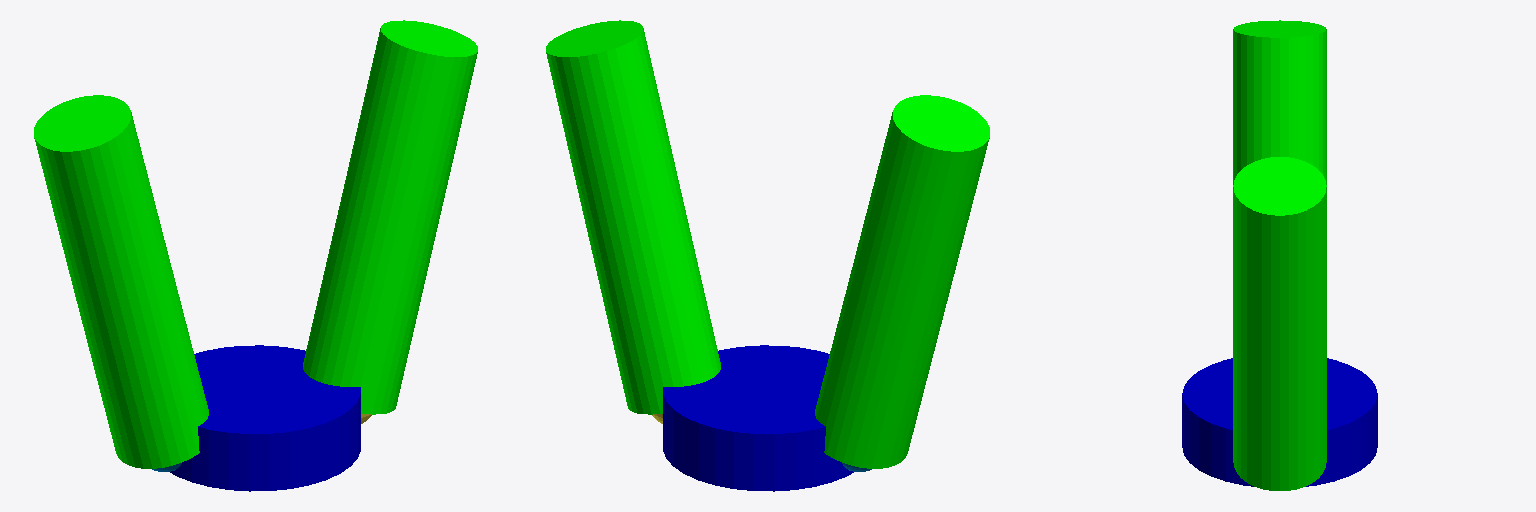
URDF robot description (gripper_2f_1j):
<?xml version='1.0' encoding='UTF-8'?>
<robot name="gripper_2f_1j">
  <link name="palm">
    <inertial>
      <origin xyz="0.0 0.0 0.0" rpy="0.0 -0.0 0.0"/>
      <mass value="1.0"/>
      <inertia ixx="1.0" ixy="0.0" ixz="0.0" iyy="1.0" iyz="0.0" izz="1.0"/>
    </inertial>
    <visual>
      <geometry>
        <cylinder radius="0.05" length="0.03"/>
      </geometry>
      <material name="blue"/>
      <origin xyz="0.0 0.0 0.0" rpy="0.0 -0.0 0.0"/>
    </visual>
    <collision>
      <geometry>
        <cylinder radius="0.05" length="0.03"/>
      </geometry>
      <origin xyz="0.0 0.0 0.0" rpy="0.0 0.0 0.0"/>
    </collision>
  </link>
  <link name="f11">
    <inertial>
      <origin xyz="0.0 0.0 0.0" rpy="0.0 -0.0 0.0"/>
      <mass value="1.0"/>
      <inertia ixx="1.0" ixy="0.0" ixz="0.0" iyy="1.0" iyz="0.0" izz="1.0"/>
    </inertial>
    <visual>
      <geometry>
        <cylinder radius="0.02384690471153116" length="0.18230065709333138"/>
      </geometry>
      <material name="green"/>
      <origin xyz="0.0 0.0 0.09115032854666569" rpy="0.0 -0.0 0.0"/>
    </visual>
    <collision>
      <geometry>
        <cylinder radius="0.02384690471153116" length="0.18230065709333138"/>
      </geometry>
      <origin xyz="0.0 0.0 0.05" rpy="0.0 0.0 0.0"/>
    </collision>
  </link>
  <link name="f21">
    <inertial>
      <origin xyz="0.0 0.0 0.0" rpy="0.0 -0.0 0.0"/>
      <mass value="1.0"/>
      <inertia ixx="1.0" ixy="0.0" ixz="0.0" iyy="1.0" iyz="0.0" izz="1.0"/>
    </inertial>
    <visual>
      <geometry>
        <cylinder radius="0.02384690471153116" length="0.18230065709333138"/>
      </geometry>
      <material name="green"/>
      <origin xyz="0.0 0.0 0.09115032854666569" rpy="0.0 -0.0 0.0"/>
    </visual>
    <collision>
      <geometry>
        <cylinder radius="0.02384690471153116" length="0.18230065709333138"/>
      </geometry>
      <origin xyz="0.0 0.0 0.05" rpy="0.0 0.0 0.0"/>
    </collision>
  </link>
  <link name="f11_base">
    <inertial>
      <origin xyz="0.0 0.0 0.0" rpy="0.0 -0.0 0.0"/>
      <mass value="1.0"/>
      <inertia ixx="1.0" ixy="0.0" ixz="0.0" iyy="1.0" iyz="0.0" izz="1.0"/>
    </inertial>
    <visual>
      <geometry>
        <sphere radius="0.015"/>
      </geometry>
      <origin xyz="0.0 0.0 0.0" rpy="0.0 -0.0 0.0"/>
    </visual>
  </link>
  <link name="f21_base">
    <inertial>
      <origin xyz="0.0 0.0 0.0" rpy="0.0 -0.0 0.0"/>
      <mass value="1.0"/>
      <inertia ixx="1.0" ixy="0.0" ixz="0.0" iyy="1.0" iyz="0.0" izz="1.0"/>
    </inertial>
    <visual>
      <geometry>
        <sphere radius="0.015"/>
      </geometry>
      <origin xyz="0.0 0.0 0.0" rpy="0.0 -0.0 0.0"/>
    </visual>
  </link>
  <joint name="f11_joint" type="revolute">
    <dynamics damping="100.0" friction="1.0"/>
    <limit effort="30.0" velocity="2.0" lower="-0.6" upper="0.25"/>
    <parent link="f11_base"/>
    <child link="f11"/>
    <axis xyz="0. 1. 0."/>
    <origin xyz="0.0 0.0 0.0" rpy="0.0 0.25 0.0"/>
  </joint>
  <joint name="f21_joint" type="revolute">
    <dynamics damping="100.0" friction="1.0"/>
    <limit effort="30.0" velocity="2.0" lower="-0.6" upper="0.25"/>
    <parent link="f21_base"/>
    <child link="f21"/>
    <axis xyz=" 0. -1.  0."/>
    <origin xyz="0.0 0.0 0.0" rpy="0.0 -0.25 0.0"/>
  </joint>
  <joint name="f11_base_joint" type="fixed">
    <parent link="palm"/>
    <child link="f11_base"/>
    <axis xyz="1. 0. 0."/>
    <origin xyz="0.05 0.0 0.0" rpy="0.0 0.0 0.0"/>
  </joint>
  <joint name="f21_base_joint" type="fixed">
    <parent link="palm"/>
    <child link="f21_base"/>
    <axis xyz="1. 0. 0."/>
    <origin xyz="-0.05 -0.0 0.0" rpy="0.0 0.0 0.0"/>
  </joint>
  <material name="blue">
    <color rgba="0.  0.  0.8 1. "/>
  </material>
  <material name="green">
    <color rgba="0. 1. 0. 1."/>
  </material>
</robot>

--- Render facts (derived) ---
The picture shows the robot from 3 angles, left to right: view 1: azimuth 30°, elevation 25°; view 2: azimuth 150°, elevation 25°; view 3: azimuth 270°, elevation 25°; orthographic projection.
Robot: gripper_2f_1j — 5 links, 4 joints (2 revolute, 2 fixed); root link palm; default pose: every joint at zero.
Visible links, largest first — view 1: f11, f21, palm; view 2: f11, f21, palm; view 3: f11, f21, palm.
Boxes of the visible links, x1=… form: f11: x1=303, y1=20, x2=477, y2=414; f21: x1=34, y1=95, x2=208, y2=468; palm: x1=170, y1=345, x2=360, y2=491; f11: x1=546, y1=20, x2=720, y2=414; f21: x1=815, y1=95, x2=989, y2=468; palm: x1=663, y1=345, x2=853, y2=491; f11: x1=1233, y1=157, x2=1326, y2=490; f21: x1=1233, y1=20, x2=1326, y2=184; palm: x1=1182, y1=358, x2=1377, y2=486.
Size in the robot's own frame: 0.2364 by 0.1 by 0.1975 metres.
Geometry: primitives only (box / cylinder / sphere), no mesh files.